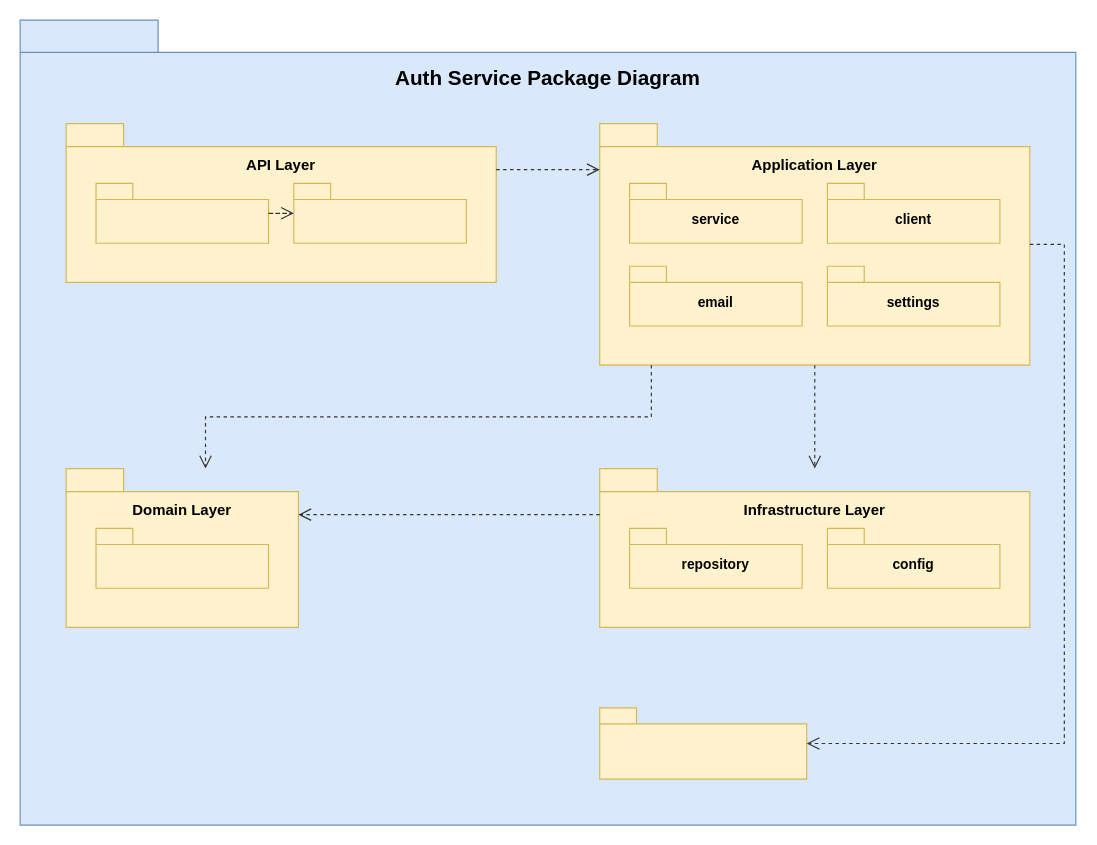
Image size: 1097x845. Some labels were removed from this diagram. The shapes that lost their labels are listed below. From the top down, each one's centre as x and y in pixels, then its label:
At (182,212): "controller".
At (379,212): "dto".
At (182,557): "model".
At (703,743): "common-lib".
